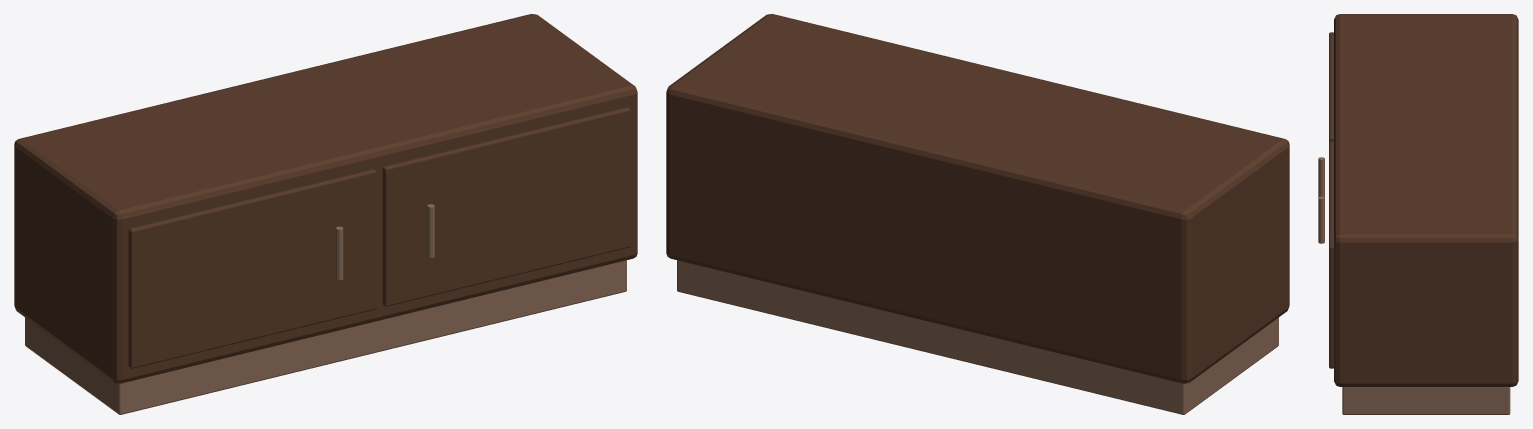
File: hh_tv_stand.glb
3 views of the same model, side by side, from view 1: azimuth 30°, elevation 25°; view 2: azimuth 150°, elevation 25°; view 3: azimuth 270°, elevation 25° (orthographic). The views are drawn at different scales.
Visible parts, largest first — view 1: body, door.001, door, plinth; view 2: body, plinth; view 3: body, plinth, door.001, door, handle.001, handle.
Boxes of the visible parts, x1,y1,x2,y2 form: body: [14, 14, 637, 383]; door.001: [382, 107, 630, 306]; door: [128, 169, 376, 368]; plinth: [25, 260, 626, 414]; body: [666, 14, 1289, 383]; plinth: [677, 260, 1278, 414]; body: [1334, 14, 1518, 386]; plinth: [1342, 387, 1510, 414]; door.001: [1329, 141, 1333, 368]; door: [1329, 32, 1333, 142]; handle.001: [1318, 196, 1324, 243]; handle: [1318, 157, 1324, 197].
Size of the model in its own units: 1.3 by 0.49 by 0.488.
